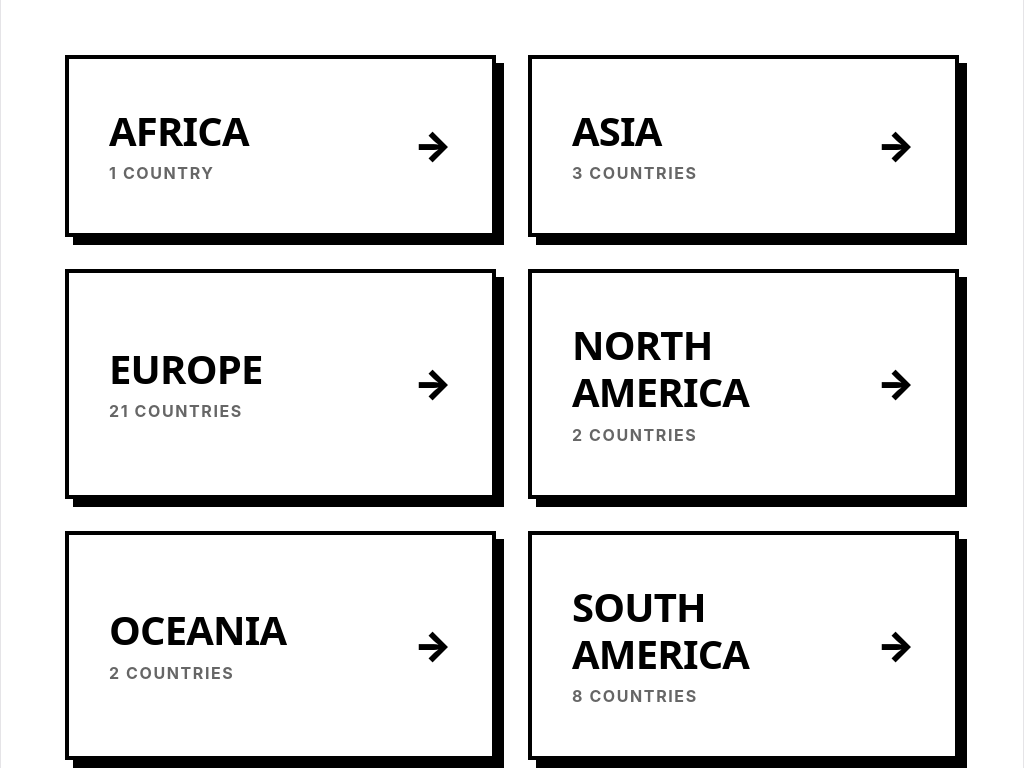
Scenario: Home page › navigates to a continent page when a card is clicked
The image size is (1024, 768).
(page scrolled)
What coordinates should you click on to do the following:
click the link "Europe 21 countries →"
I would click on:
 (186, 368)
Its box is left=65, top=269, right=496, bottom=499.
(page scrolled)
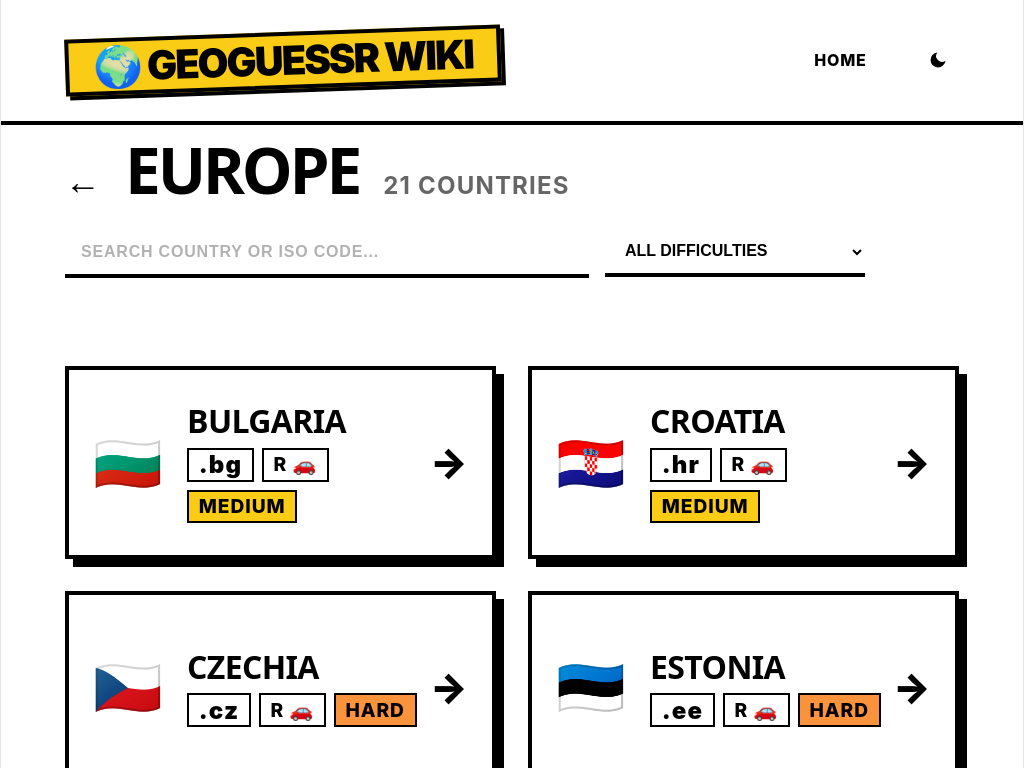
Expected: the heading "Europe" is shown, left=125, top=141, right=359, bottom=198
